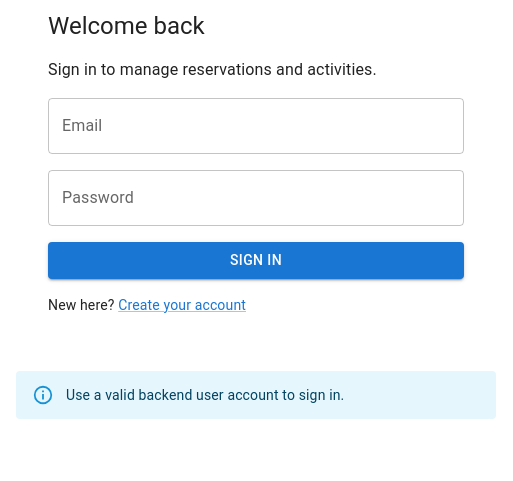
LoginPage › shows validation errors for invalid credentials form input
Click the button "Sign in" at coordinates (256, 260), box [48, 242, 464, 278]
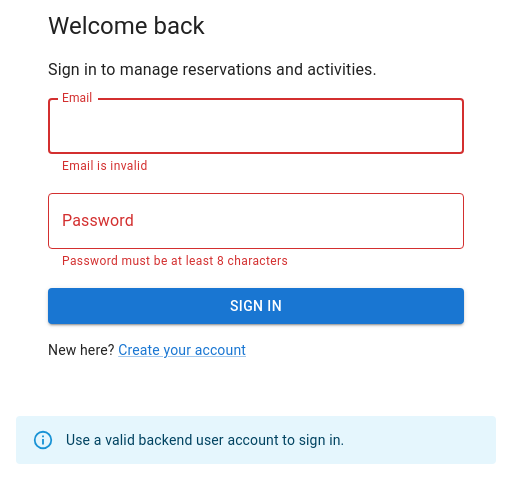
Now the text "Email is invalid" is shown, box [62, 159, 148, 173]
Now the text "Password must be at least 8 characters" is shown, box [62, 254, 288, 268]
